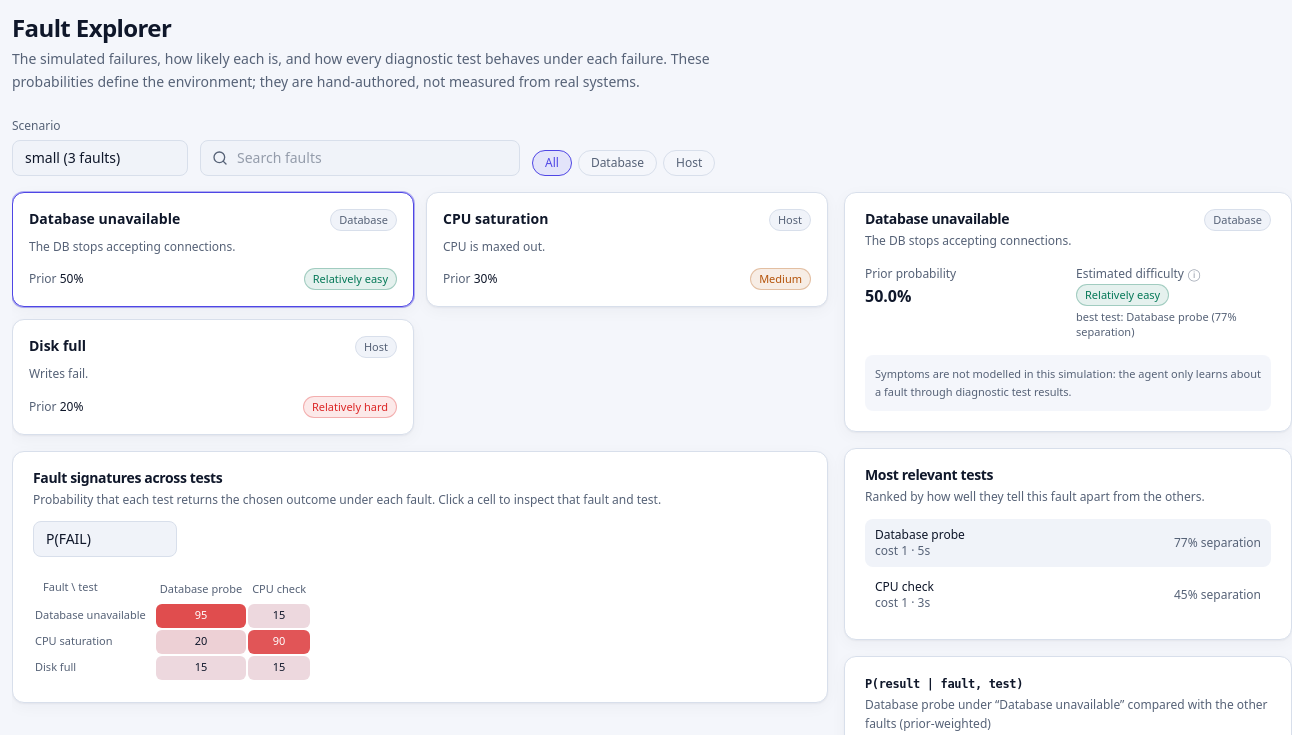
Test: Fault Explorer › filters by search and category
Expected: the list named "Faults" is shown, top-left (12, 192), bottom-right (828, 434)
Click the button "Host".
click(689, 162)  # box top-left (663, 150), bottom-right (715, 176)
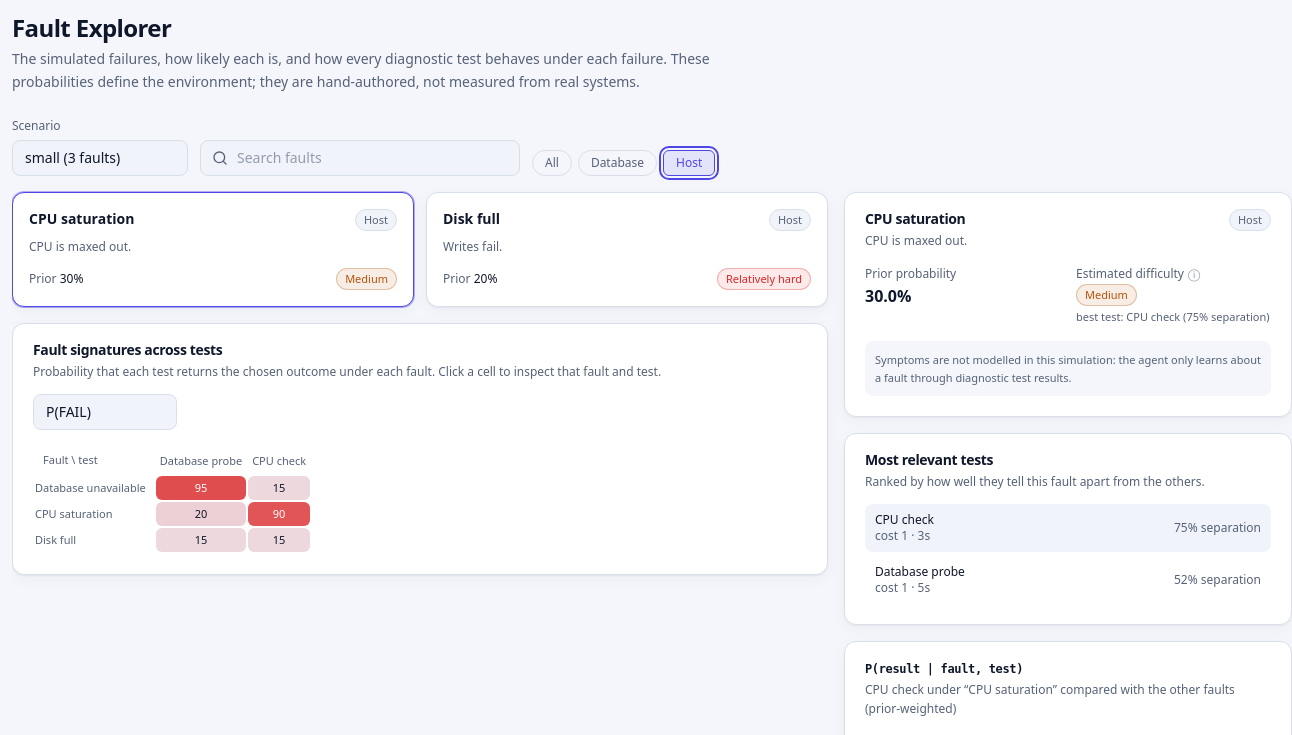
Type "disk" into the field with placeholder "Search faults".
click(360, 158); type("disk")  # box top-left (200, 140), bottom-right (520, 176)
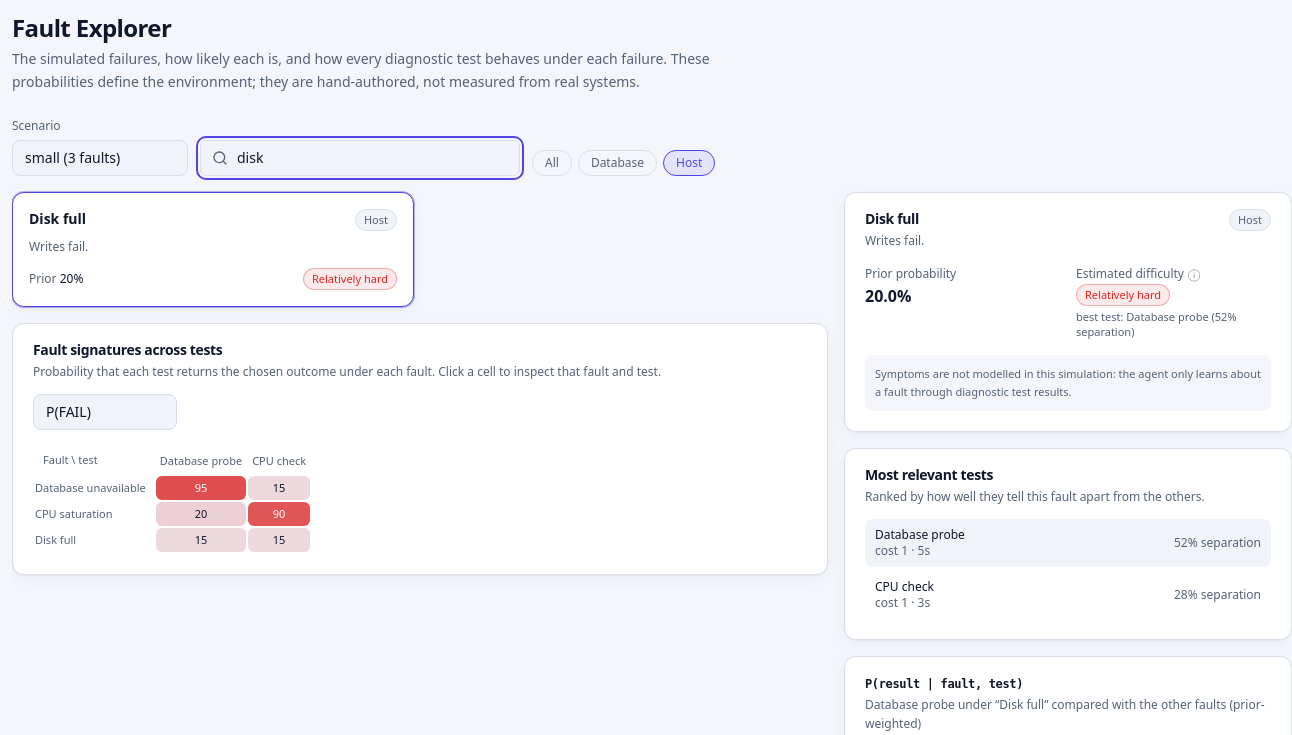
Replace the text in the field with placeholder "Search faults" with "zzzz" at (360, 158), box top-left (200, 140), bottom-right (520, 176)
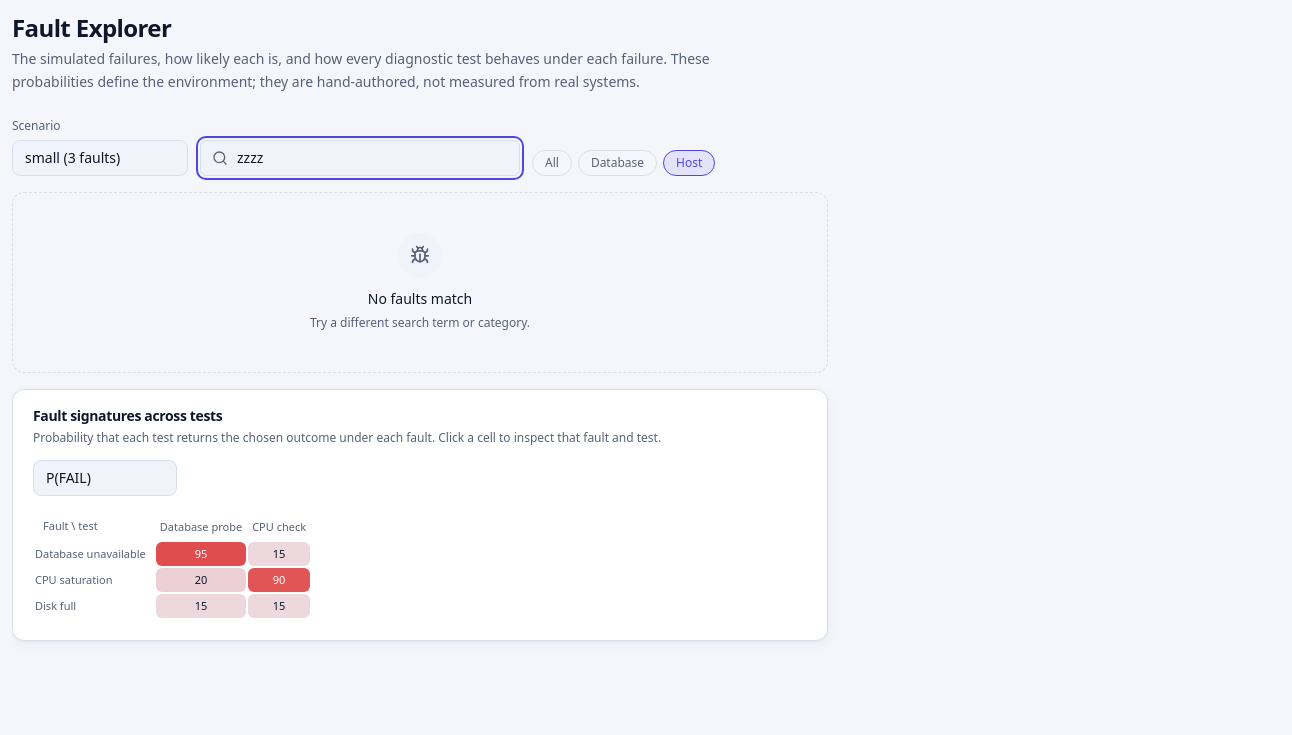
Now the text "No faults match" is shown, box top-left (368, 288), bottom-right (472, 308)
